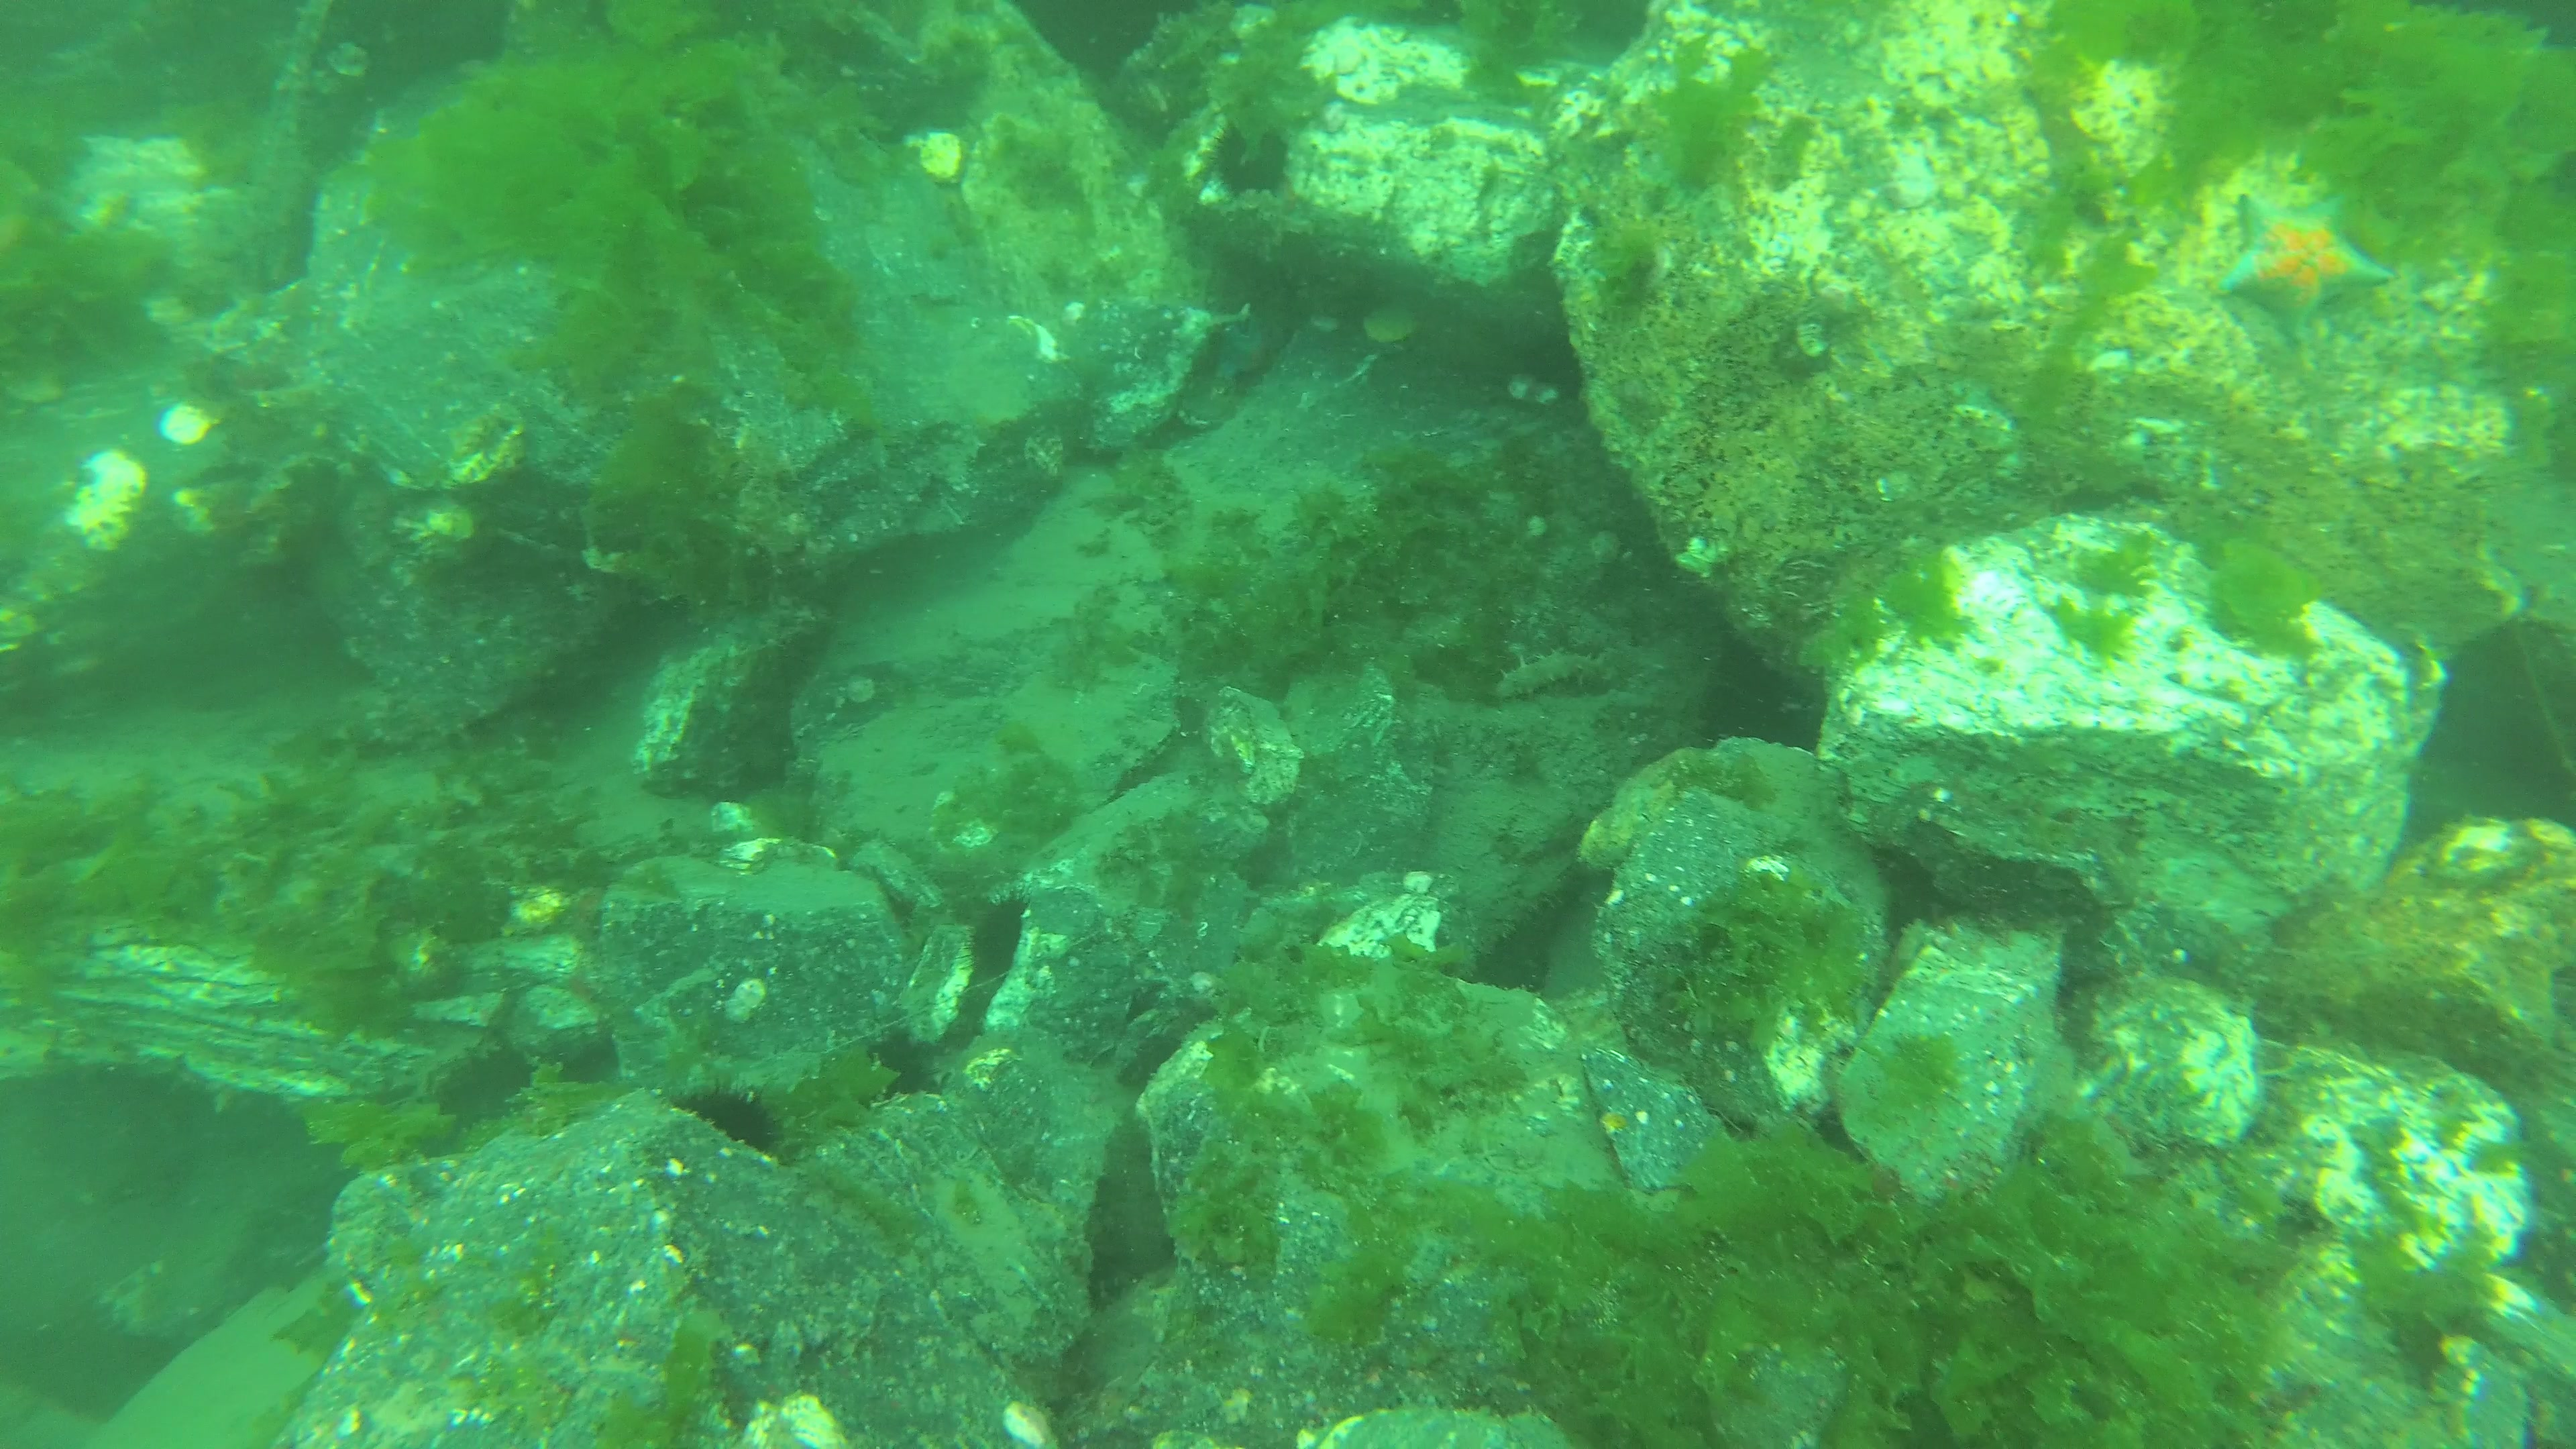echinus: (674, 1079, 787, 1161), (1208, 117, 1299, 209), (957, 893, 1035, 996)
holothurian: (1484, 635, 1614, 713)
starfish: (2208, 186, 2387, 356)
